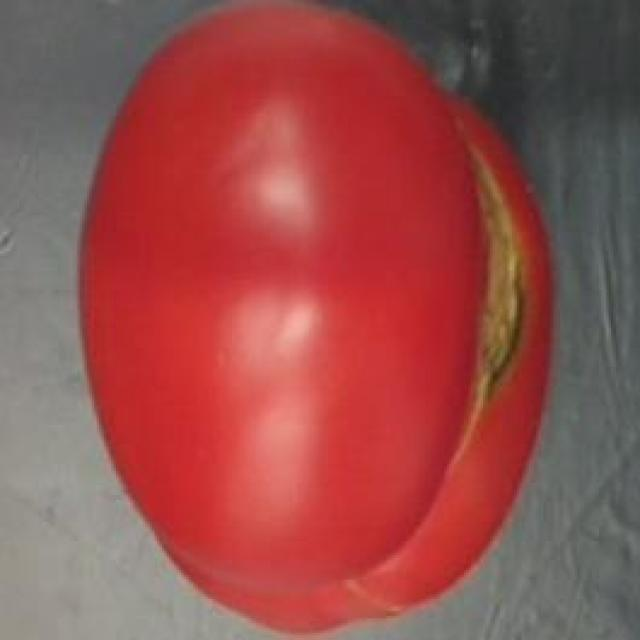overripe tomato: (68, 5, 568, 638)
